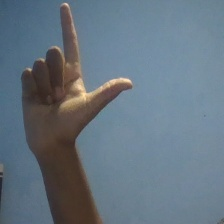L: (17, 2, 139, 157)
